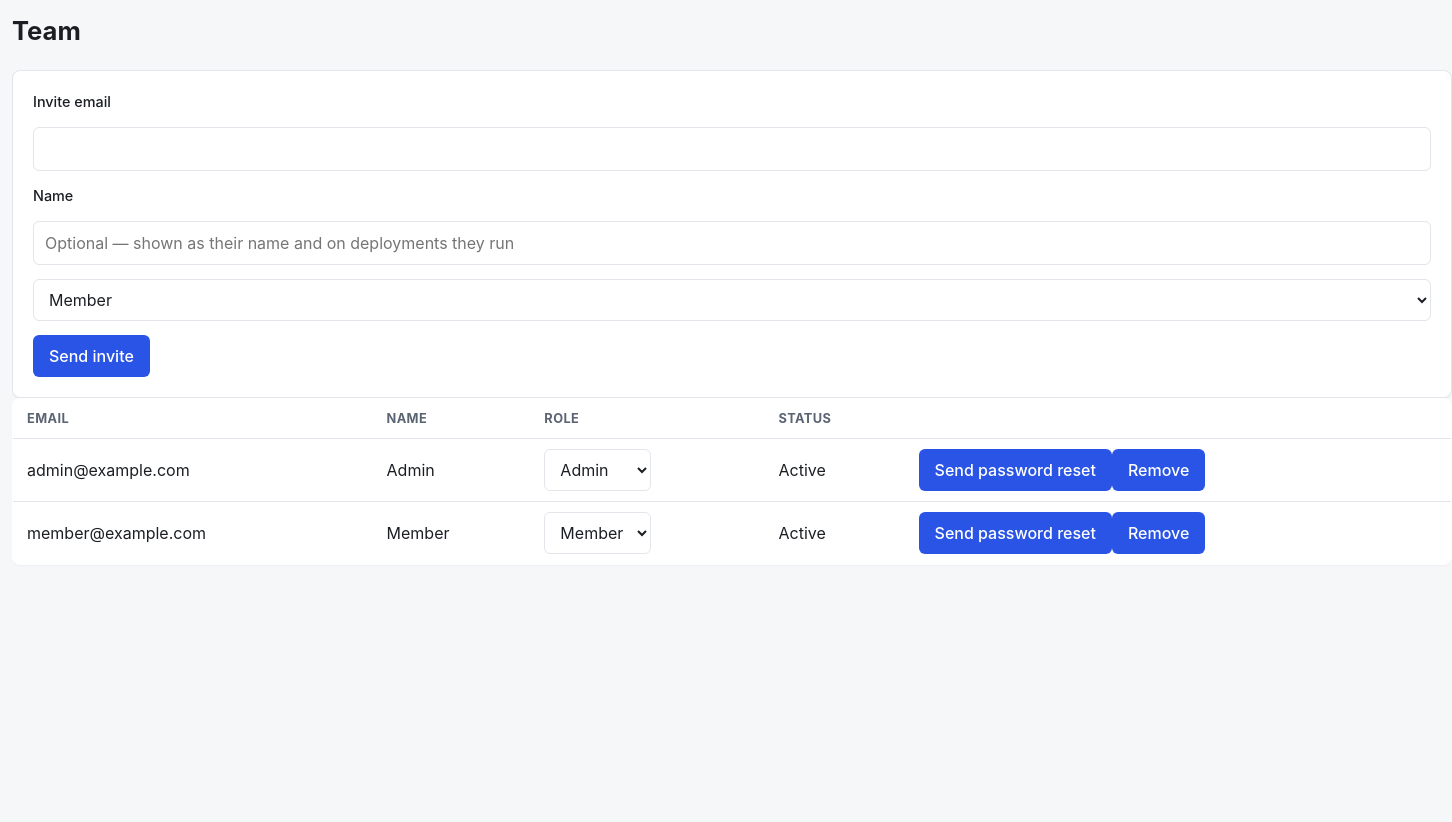
Team › shows an error when a role change is refused, e.g. demoting the last admin
Check: the text "admin@example.com" is shown, box left=12, top=438, right=372, bottom=501
Select "Member" in the dropdown named "Role for admin@example.com" at coordinates (598, 470), box left=544, top=449, right=651, bottom=491
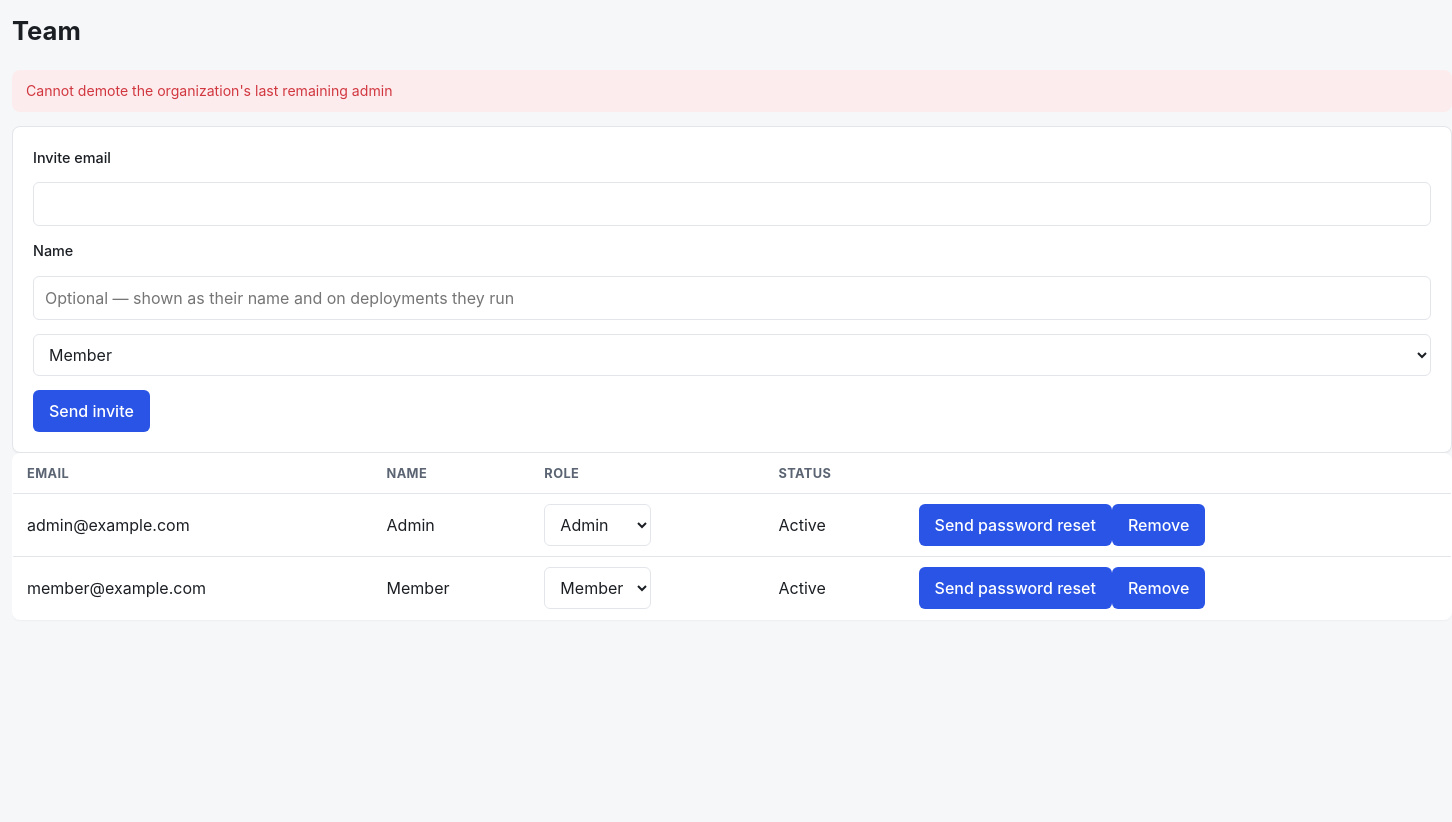
Check: the text "Cannot demote the organization's last remaining admin" is shown, box left=12, top=70, right=1451, bottom=112
